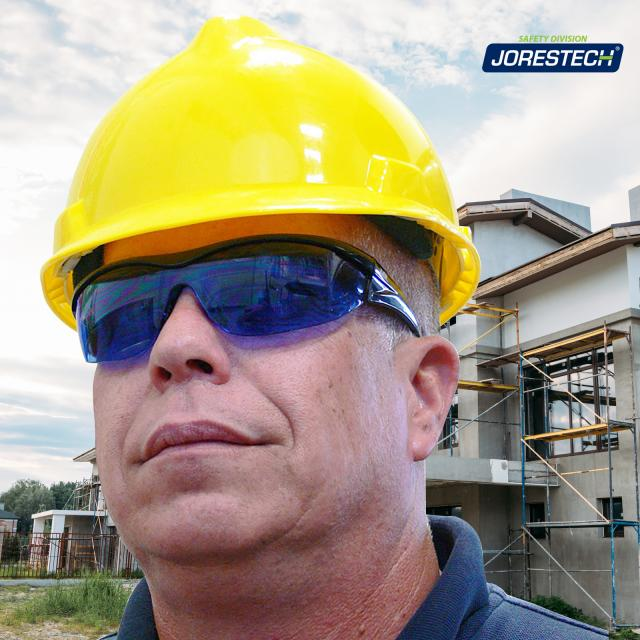Helmet: (5, 0, 558, 249)
Protective Glasses: (58, 238, 502, 374)
